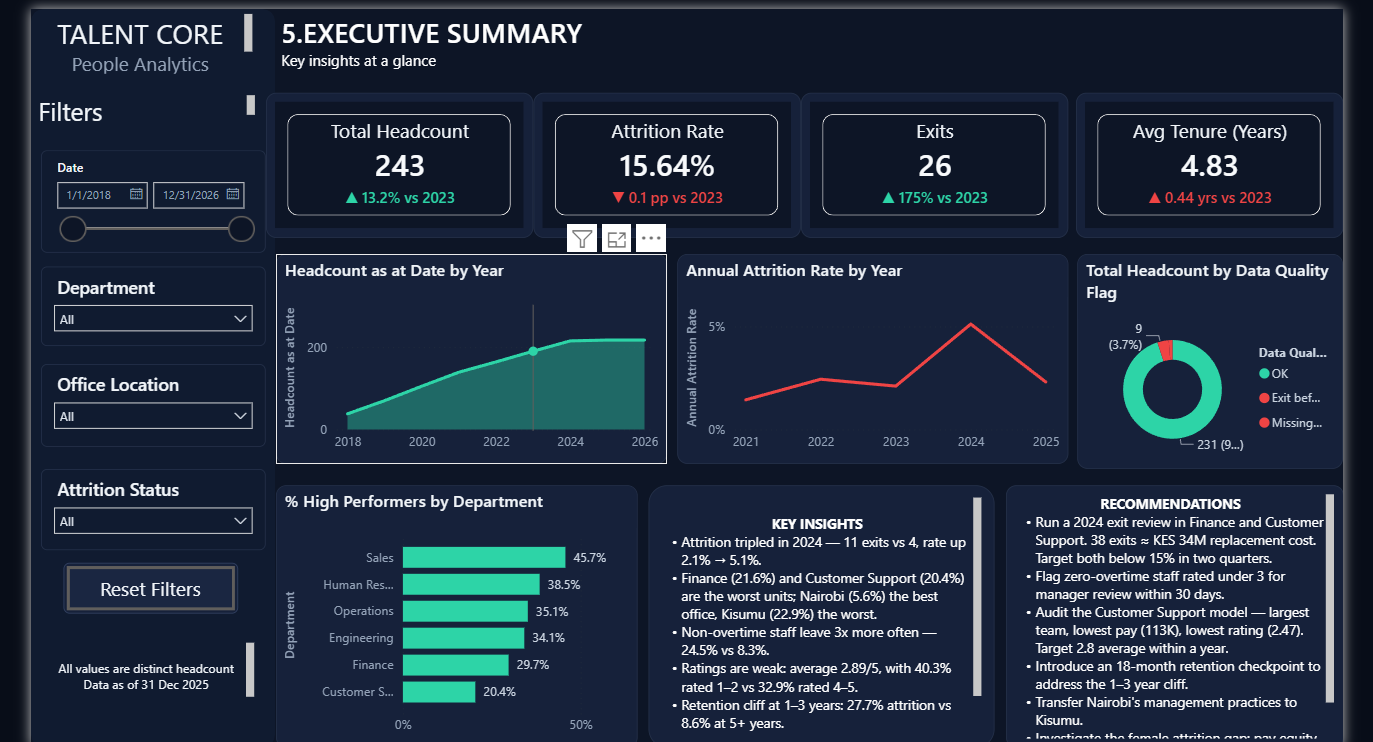

The page's visual inventory and layout, read from the dashboard file:
{"tool":"powerbi","page":{"name":"Executive Summary","canvas":[1280,720],"ordinal":4},"visuals":[{"type":"shape","box":[0,0,238.1,720],"z":0},{"type":"textbox","box":[0,0,221.1,68.4],"z":1000},{"type":"textbox","box":[1.9,79.4,221.1,45.4],"z":2000},{"type":"slicer","fields":{"Values":["Date Table.Date"]},"box":[9.5,138.4,219.5,100.2],"z":3000},{"type":"slicer","fields":{"Values":["TalentCore_HR_Workforce_Data.Department"]},"box":[9.5,251.3,219.5,77.9],"z":4000},{"type":"slicer","fields":{"Values":["TalentCore_HR_Workforce_Data.Office Location"]},"box":[9.5,346.8,219.5,81.1],"z":5000},{"type":"slicer","fields":{"Values":["TalentCore_HR_Workforce_Data.Attrition Status"]},"box":[9.5,448.6,219.5,79.5],"z":6000},{"type":"actionButton","box":[31.8,540.8,170.2,49.3],"z":7000},{"type":"textbox","box":[9.5,614,213.1,74.8],"z":8000},{"type":"cardVisual","fields":{"Data":["TalentCore_HR_Workforce_Data.Total Headcount"]},"box":[229,81.1,260.9,141.6],"z":9000},{"type":"cardVisual","fields":{"Data":["TalentCore_HR_Workforce_Data.Attrition Rate"]},"box":[489.9,81.1,260.9,141.6],"z":10000},{"type":"cardVisual","fields":{"Data":["TalentCore_HR_Workforce_Data.Avg Tenure (Years)"]},"box":[1019.6,81.1,260.9,141.6],"z":11000},{"type":"cardVisual","fields":{"Data":["TalentCore_HR_Workforce_Data.Exits"]},"box":[750.8,81.1,260.9,141.6],"z":12000},{"type":"areaChart","fields":{"Category":["Date Table.Year"],"Y":["TalentCore_HR_Workforce_Data.Headcount as at Date"]},"box":[238.6,238.6,381.7,205.2],"z":13000},{"type":"lineChart","fields":{"Category":["Date Table.Year"],"Y":["TalentCore_HR_Workforce_Data.Annual Attrition Rate"]},"box":[629.9,238.6,381.7,205.2],"z":14000},{"type":"clusteredBarChart","fields":{"Y":["TalentCore_HR_Workforce_Data.% High Performers"],"Category":["TalentCore_HR_Workforce_Data.Department"]},"box":[238.6,464.5,353.1,256.1],"z":15000},{"type":"donutChart","fields":{"Category":["TalentCore_HR_Workforce_Data.Data Quality Flag"],"Y":["TalentCore_HR_Workforce_Data.Total Headcount"]},"box":[1021.2,238.6,259.3,210],"z":16000},{"type":"textbox","box":[238.6,0,1025.9,79.5],"z":17000},{"type":"textbox","box":[602.8,464.5,337.2,256.1],"z":18000},{"type":"textbox","box":[951.2,464.5,329.3,256.1],"z":19000}]}

Visuals, with their boxes on the page's 1280x720 design canvas (x1, y1, x2, y2). These are canvas units, not pixel positions in the 1373x742 screenshot, which may show the page scaled, cropped or inside an application window:
shape: l=0, t=0, r=238, b=720
textbox: l=0, t=0, r=221, b=68
textbox: l=2, t=79, r=223, b=125
slicer - Date Table.Date: l=10, t=138, r=229, b=239
slicer - TalentCore_HR_Workforce_Data.Department: l=10, t=251, r=229, b=329
slicer - TalentCore_HR_Workforce_Data.Office Location: l=10, t=347, r=229, b=428
slicer - TalentCore_HR_Workforce_Data.Attrition Status: l=10, t=449, r=229, b=528
actionButton: l=32, t=541, r=202, b=590
textbox: l=10, t=614, r=223, b=689
cardVisual - TalentCore_HR_Workforce_Data.Total Headcount: l=229, t=81, r=490, b=223
cardVisual - TalentCore_HR_Workforce_Data.Attrition Rate: l=490, t=81, r=751, b=223
cardVisual - TalentCore_HR_Workforce_Data.Avg Tenure (Years): l=1020, t=81, r=1280, b=223
cardVisual - TalentCore_HR_Workforce_Data.Exits: l=751, t=81, r=1012, b=223
areaChart - Date Table.Year x TalentCore_HR_Workforce_Data.Headcount as at Date: l=239, t=239, r=620, b=444
lineChart - Date Table.Year x TalentCore_HR_Workforce_Data.Annual Attrition Rate: l=630, t=239, r=1012, b=444
clusteredBarChart - TalentCore_HR_Workforce_Data.% High Performers x TalentCore_HR_Workforce_Data.Department: l=239, t=464, r=592, b=721
donutChart - TalentCore_HR_Workforce_Data.Data Quality Flag x TalentCore_HR_Workforce_Data.Total Headcount: l=1021, t=239, r=1280, b=449
textbox: l=239, t=0, r=1264, b=80
textbox: l=603, t=464, r=940, b=721
textbox: l=951, t=464, r=1280, b=721
